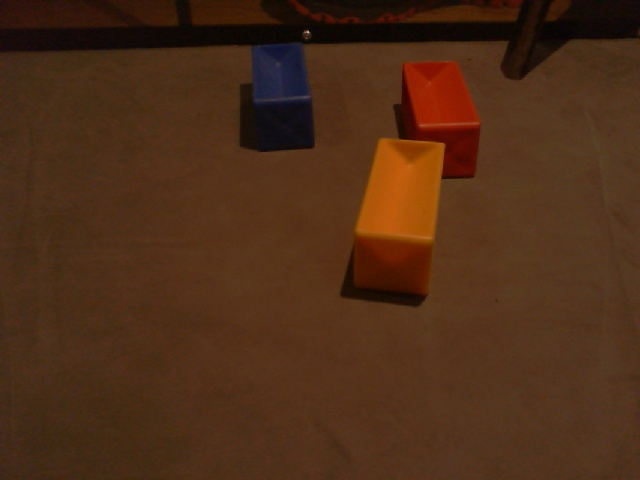BlueSample: (248, 41, 315, 151)
RedSample: (399, 55, 483, 178)
YellowSample: (351, 135, 447, 303)
